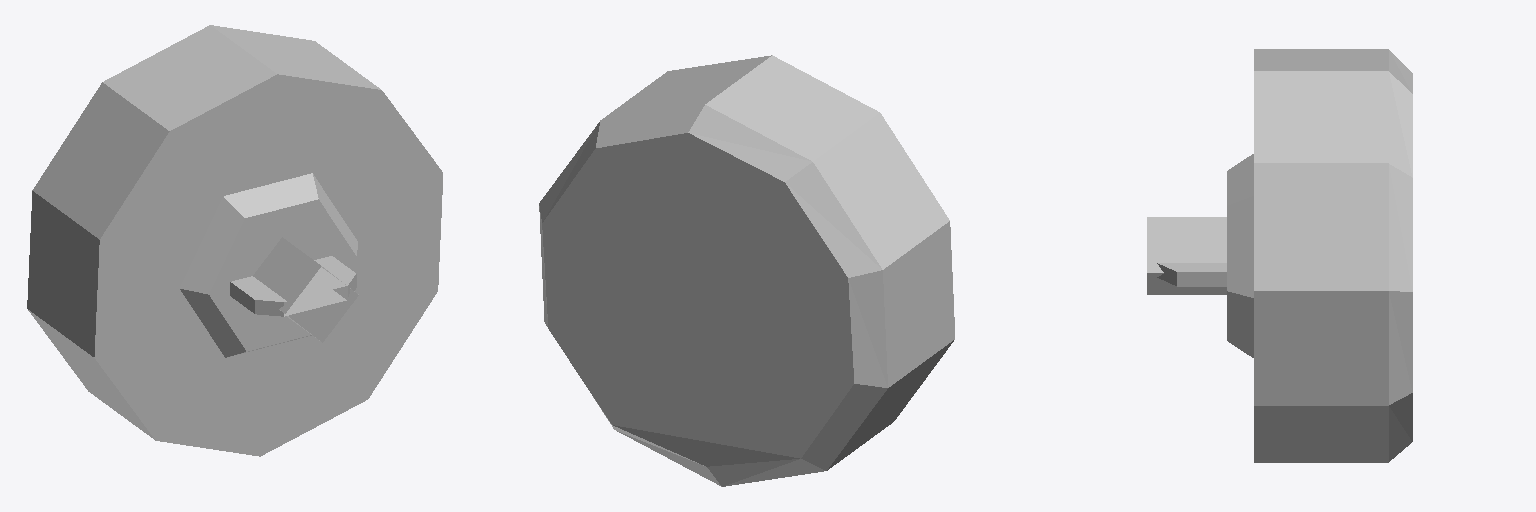
File: wheel167.obj
3 renders of one model, left to right at view 1: azimuth 30°, elevation 25°; view 2: azimuth 150°, elevation 25°; view 3: azimuth 270°, elevation 25°, orthographic.
Visible parts, largest first — view 1: wheel_low_textures; view 2: wheel_low_textures; view 3: wheel_low_textures.
Part boxes in pixels (left/top/right/bottom): wheel_low_textures: left=27, top=25, right=442, bottom=456; wheel_low_textures: left=539, top=55, right=954, bottom=486; wheel_low_textures: left=1147, top=49, right=1412, bottom=462.
Bounding box in the file's own units: 1.51 × 1.56 × 0.9907.